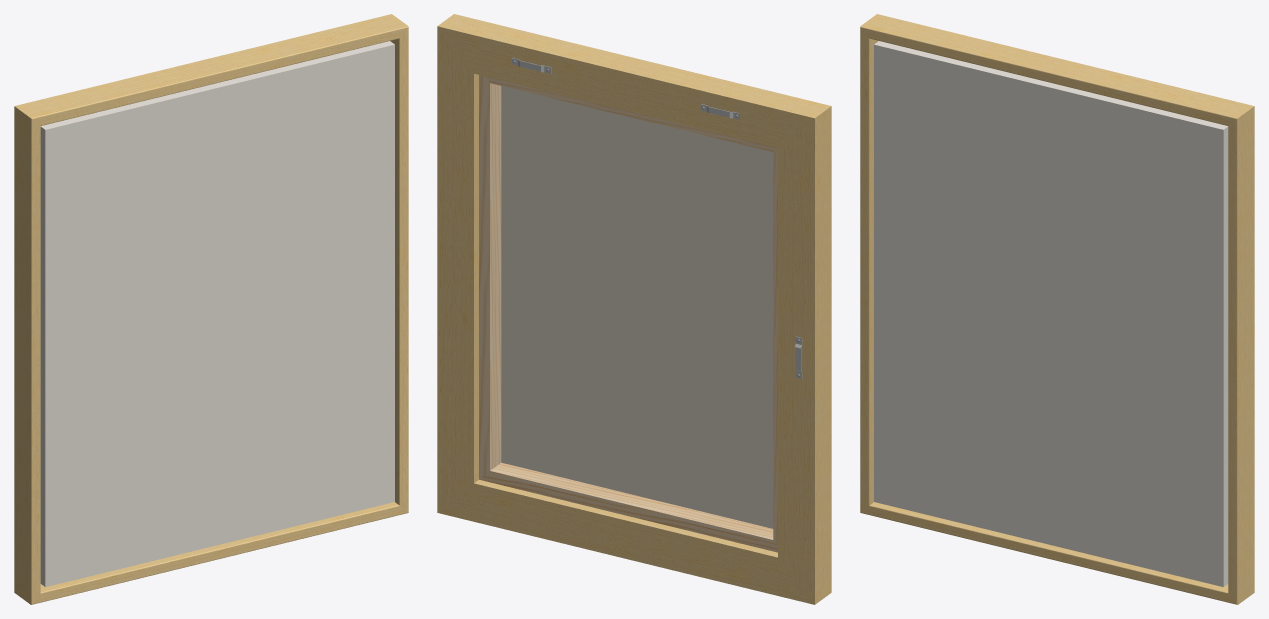
Rendered from delivery.glb.
3 renders of one model, left to right at view 1: azimuth 30°, elevation 25°; view 2: azimuth 150°, elevation 25°; view 3: azimuth 330°, elevation 25°, orthographic.
Visible parts, largest first — view 1: Canvas artwork front, Tray approved profile 0; view 2: Canvas linen reverse, Tray approved profile 0, Stretcher top, Sawtooth hanger 0; view 3: Canvas artwork front, Tray approved profile 0.
Boxes of the visible parts, box(x1,y1,x2,y2) form: Canvas artwork front: box(40, 41, 394, 586); Tray approved profile 0: box(14, 14, 408, 604); Canvas linen reverse: box(501, 86, 773, 528); Tray approved profile 0: box(437, 14, 831, 604); Stretcher top: box(479, 75, 777, 552); Sawtooth hanger 0: box(511, 58, 802, 379); Canvas artwork front: box(874, 41, 1228, 586); Tray approved profile 0: box(860, 14, 1254, 604).
Bounding box in the file's own units: 0.432 × 0.532 × 0.0364.
7 materials, 3 textured.
